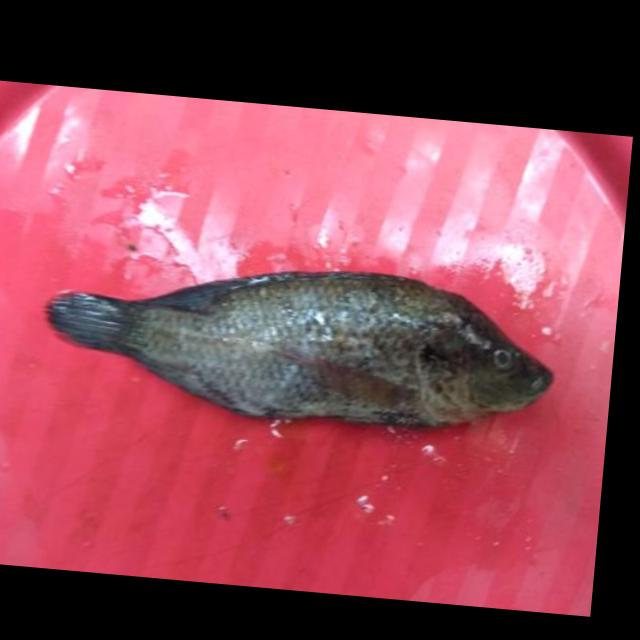Tilapia: (37, 237, 563, 447)
